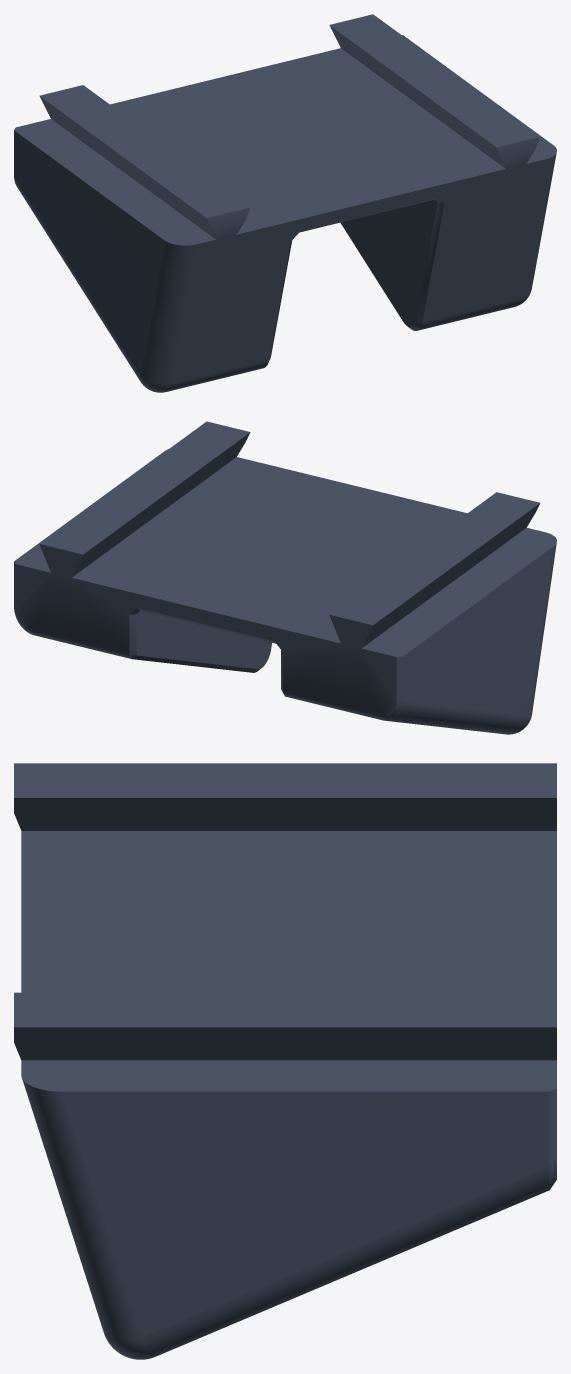
The model's file is finger-support.glb.
The picture shows the model from 3 angles, top to bottom: view 1: azimuth 30°, elevation 25°; view 2: azimuth 150°, elevation 25°; view 3: azimuth 270°, elevation 25°; orthographic projection. The views are drawn at different scales.
Visible parts, largest first — view 1: Finger sled; view 2: Finger sled; view 3: Finger sled.
Boxes of the visible parts, x1,y1,x2,y2 form: Finger sled: (14,14,556,392); Finger sled: (14,421,556,734); Finger sled: (14,763,556,1359).
Size of the model in its own units: 0.0188 by 0.00919 by 0.014.
